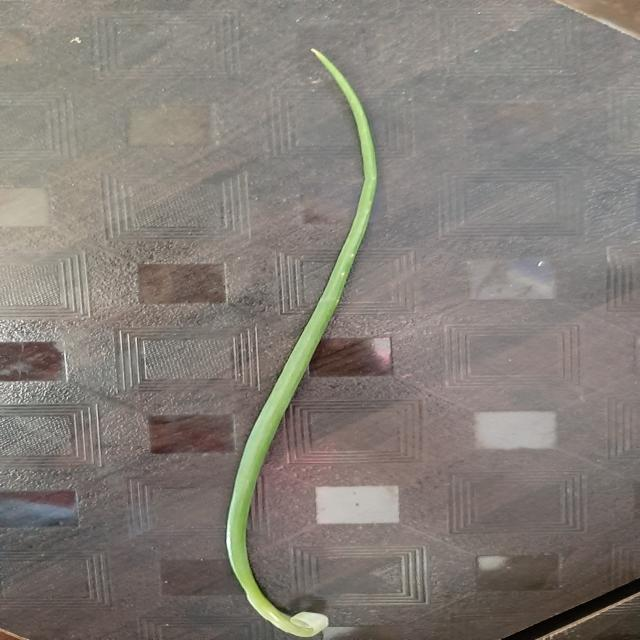onion: (225, 50, 377, 638)
